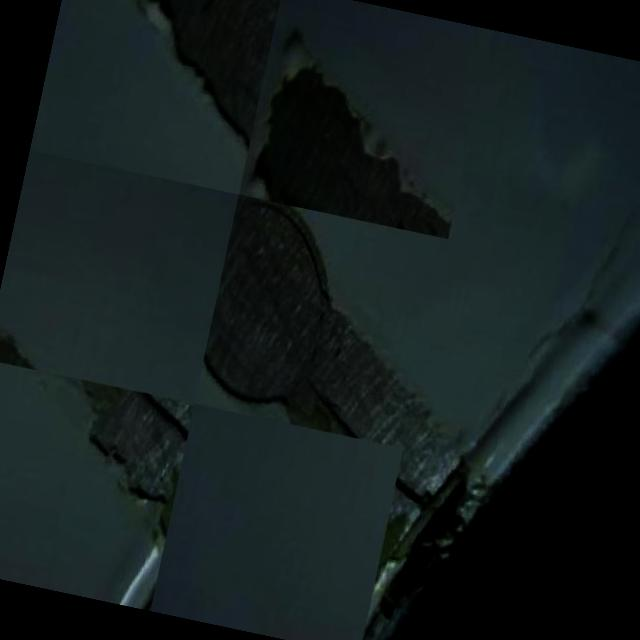crack: (301, 386, 365, 438), (134, 392, 190, 438), (390, 473, 432, 509)
